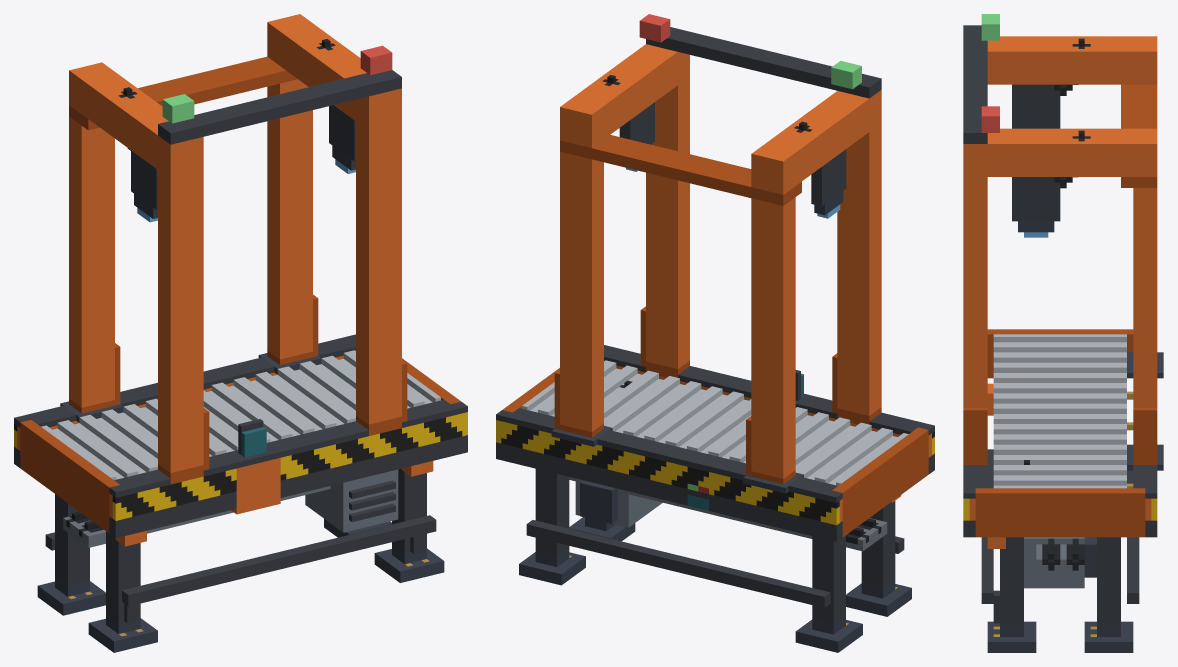
File: conveyor_scanner.obj
The picture shows the model from 3 angles, left to right: view 1: azimuth 30°, elevation 25°; view 2: azimuth 150°, elevation 25°; view 3: azimuth 270°, elevation 25°; orthographic projection. The views are drawn at different scales.
Parts seen in each view (by area): view 1: conveyor_scanner; view 2: conveyor_scanner; view 3: conveyor_scanner.
Boxes of the visible parts, x1=… form: conveyor_scanner: x1=14, y1=14, x2=467, y2=652; conveyor_scanner: x1=496, y1=14, x2=934, y2=652; conveyor_scanner: x1=963, y1=14, x2=1163, y2=652.
Size of the model in its own units: 2 by 2.91 by 1.03.
